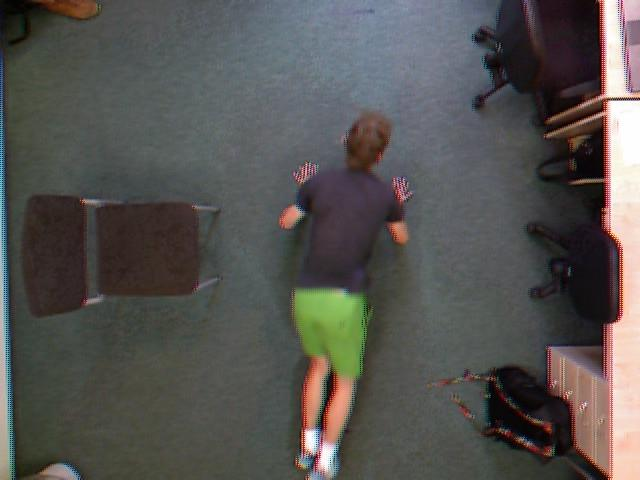fall: (266, 96, 428, 475)
